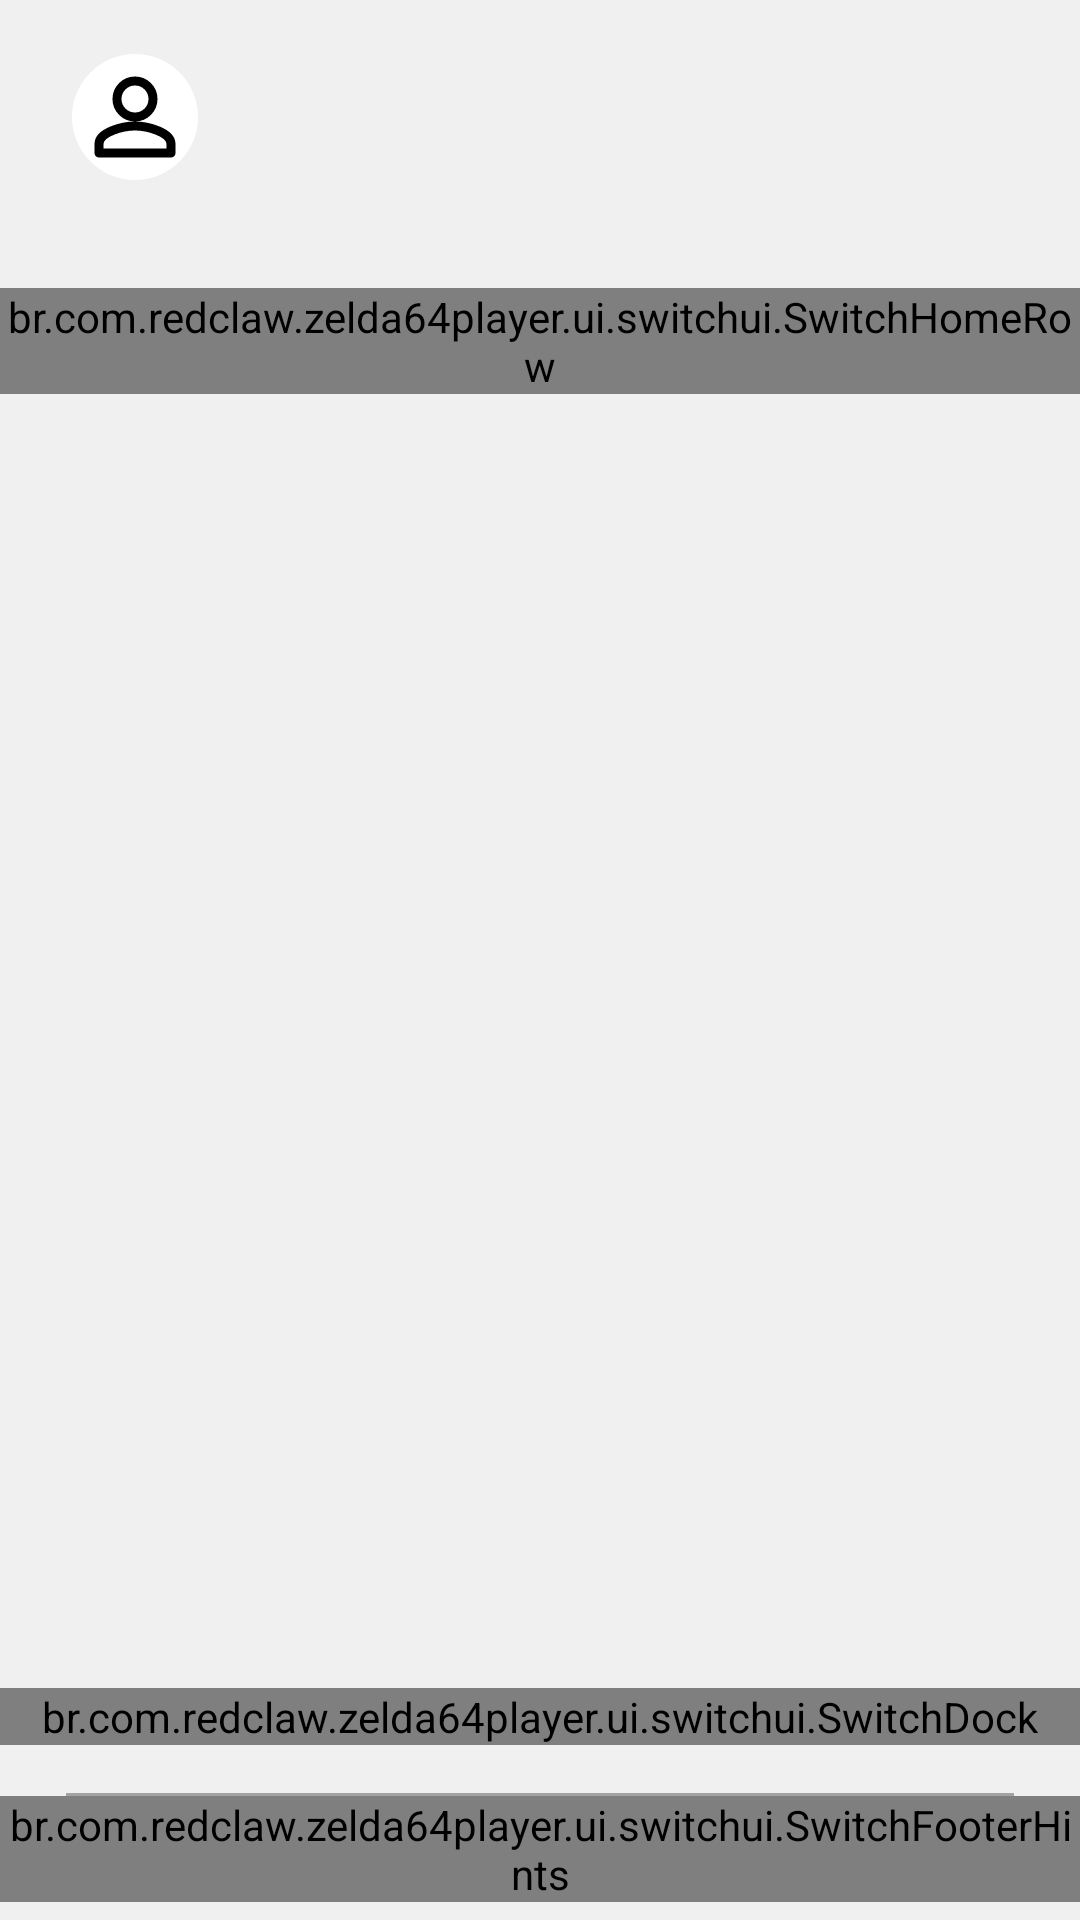

Where to tap for icons on this 1080px x 1920px app screen, as point (x, y):
Avatar do jogador RetroAchievements: point (135, 117)
